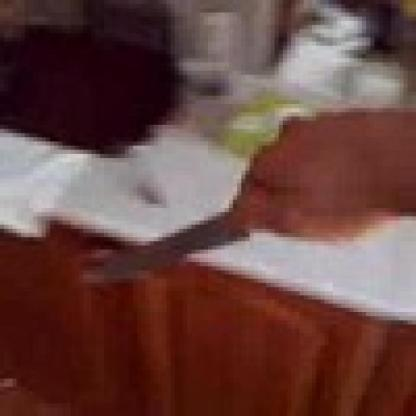Knife: (79, 204, 258, 283)
